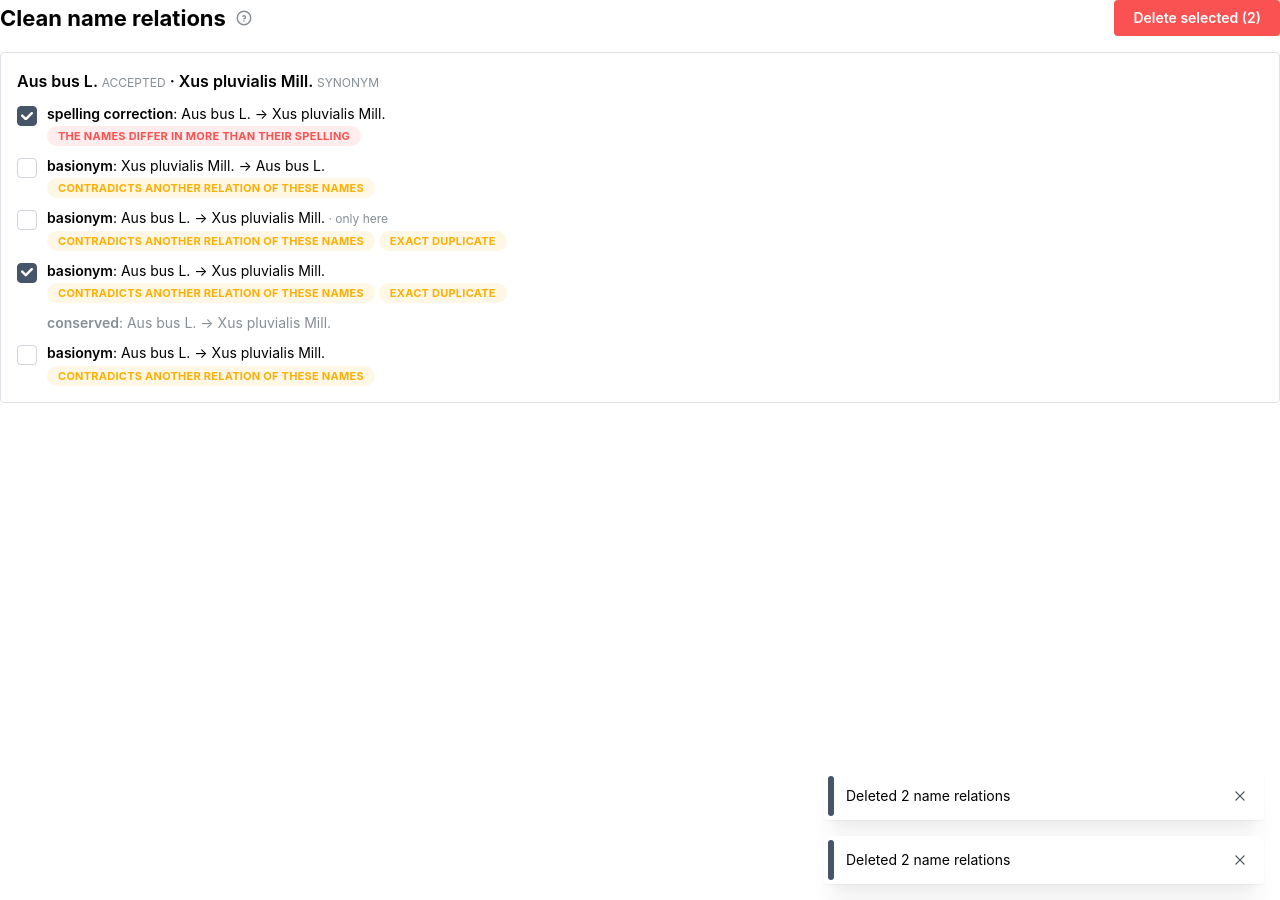
Test: RelationConflictsPage › conflictShowsMessageAndRefetches
This screenshot has width=1280, height=900.
Click the button "Delete selected (2)": {"x": 1197, "y": 18} [1114,0,1279,36]
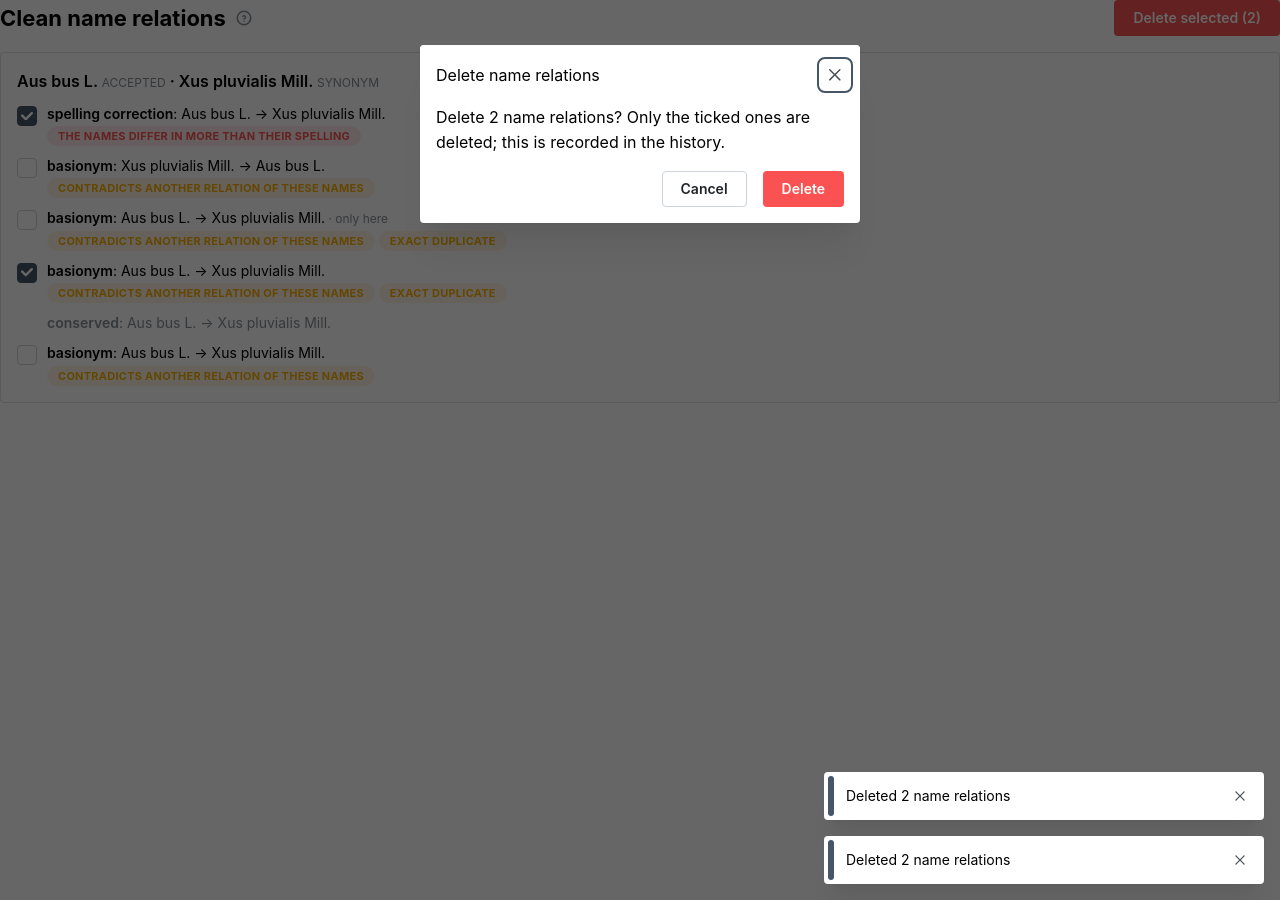
Click the button "Delete": {"x": 803, "y": 189} [763,171,844,207]
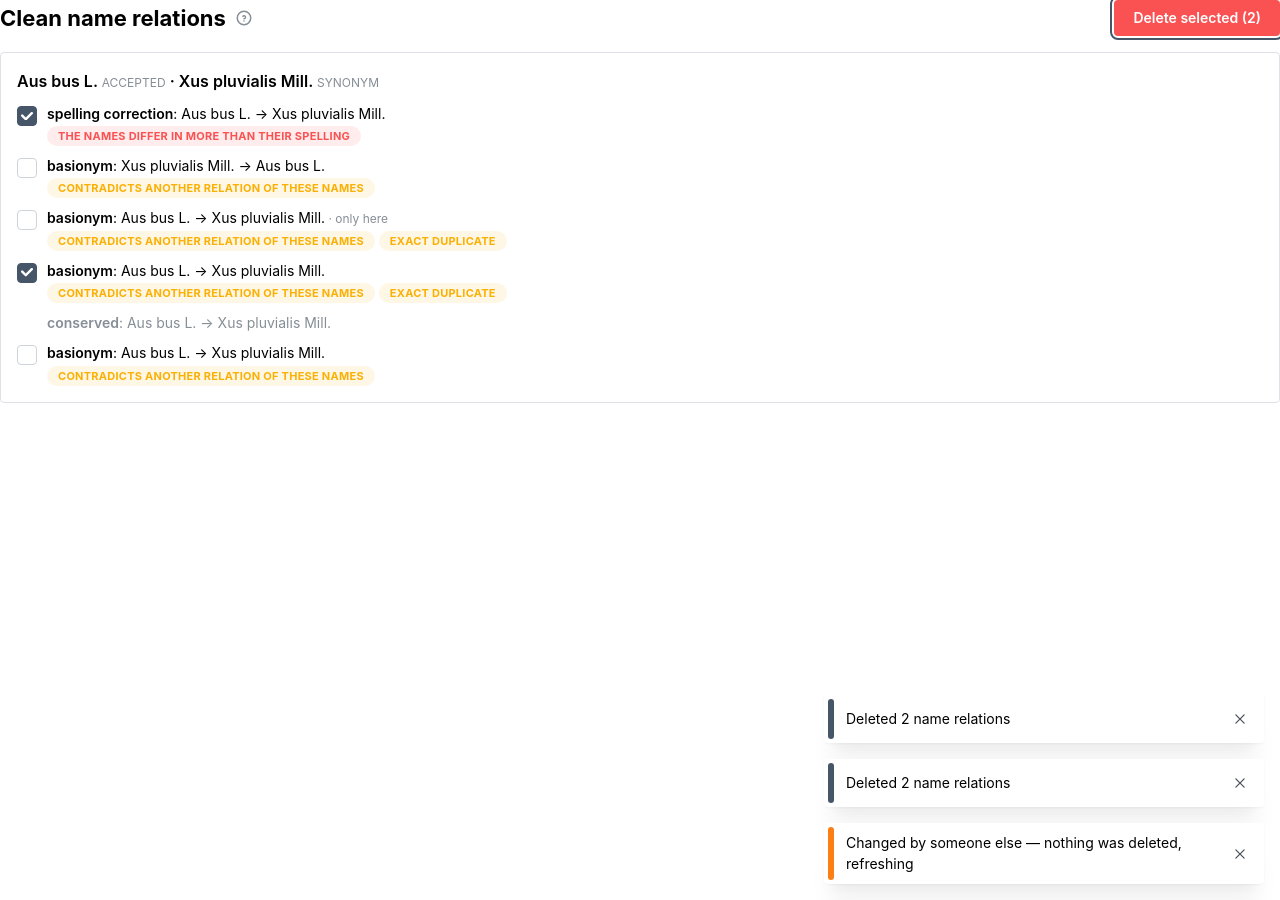
Check: the text "Changed by someone else — nothing was deleted, refreshing" is shown, box [846,833,1216,874]
